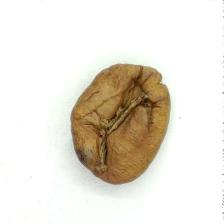NG: (76, 73, 149, 171)
